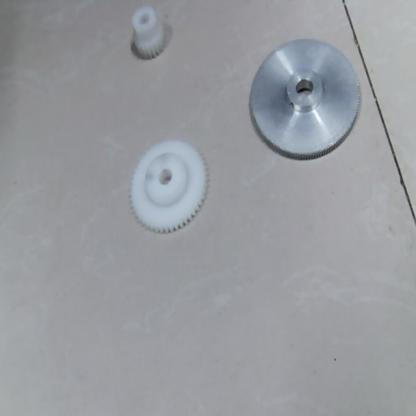FOD: (245, 36, 363, 165), (126, 139, 208, 236), (127, 0, 172, 70)
